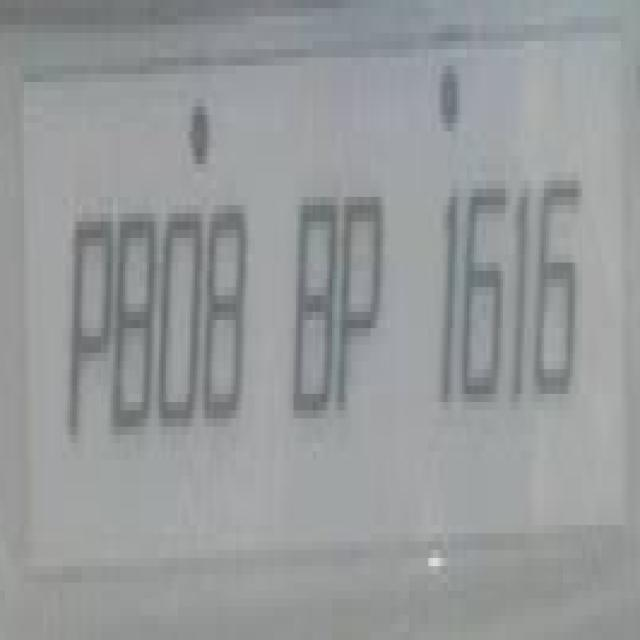license_plate: (14, 8, 640, 607)
